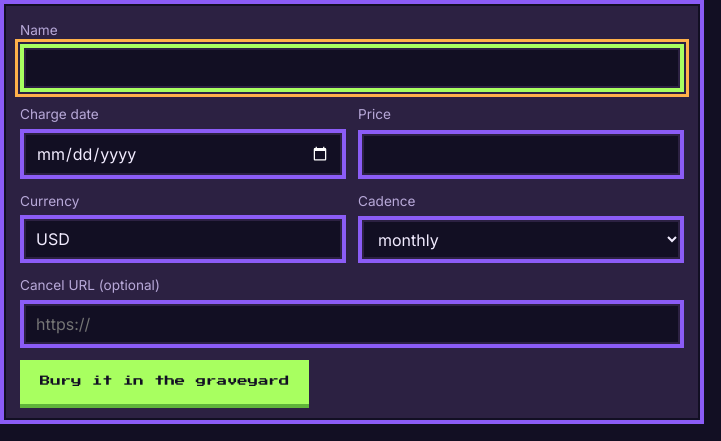
it: GraveForm › saves a valid grave and resets the form
Type "  Phantomflix " into the field labelled "Name" at (352, 68), box x1=20 y1=44 x2=684 y2=92
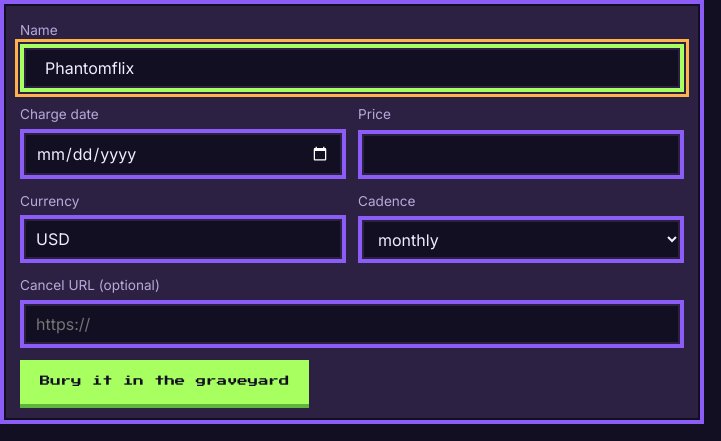
Type "2026-10-31" into the date field labelled "Charge date" at (183, 154), box x1=20 y1=129 x2=346 y2=179
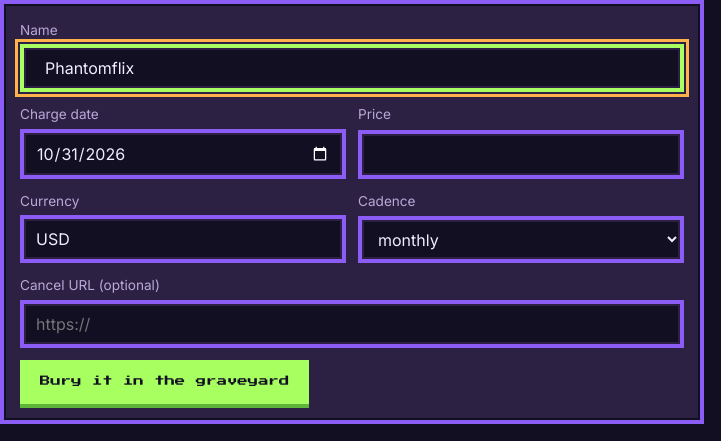
Type "15.49" into the field labelled "Price" at (521, 154), box x1=358 y1=130 x2=684 y2=179
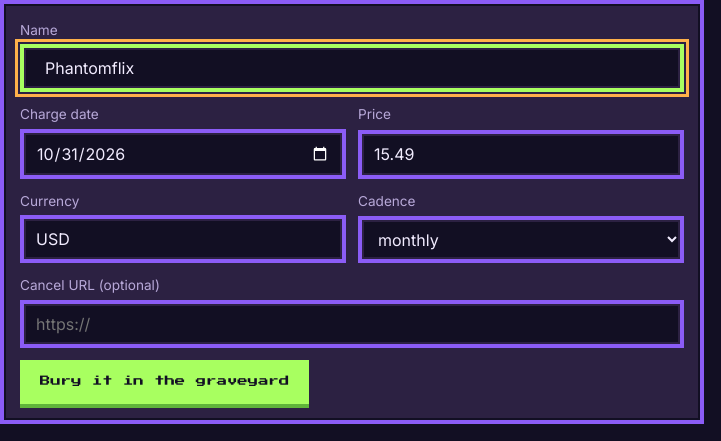
Select "yearly" in the dropdown labelled "Cadence" at (521, 240), box x1=358 y1=216 x2=684 y2=263
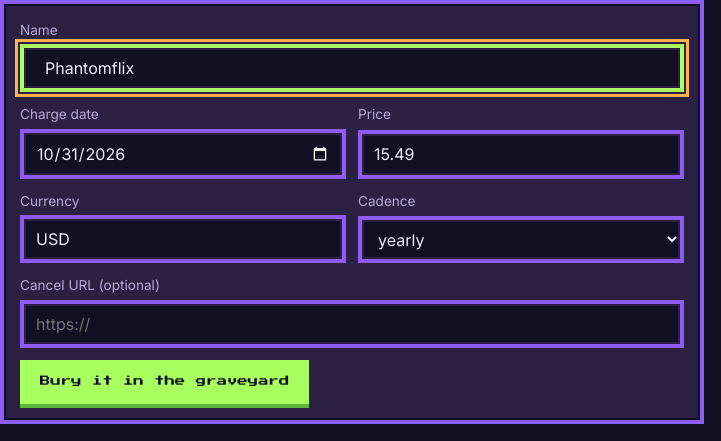
Type "https://phantomflix.example/cancel" into the field labelled "Cancel URL (optional)" at (352, 324), box x1=20 y1=300 x2=684 y2=348
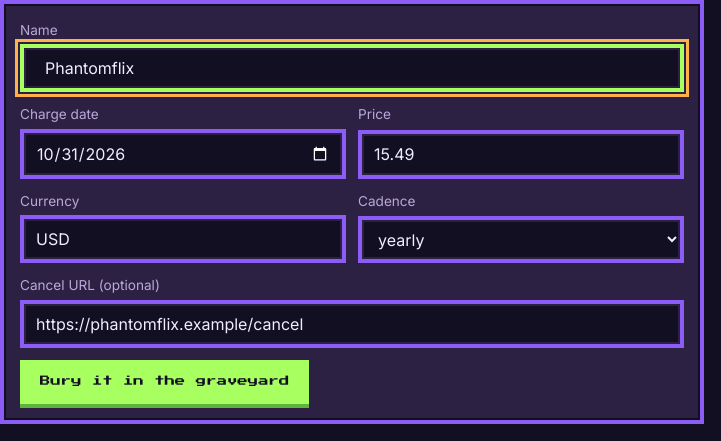
Submit the form named "Grave details"
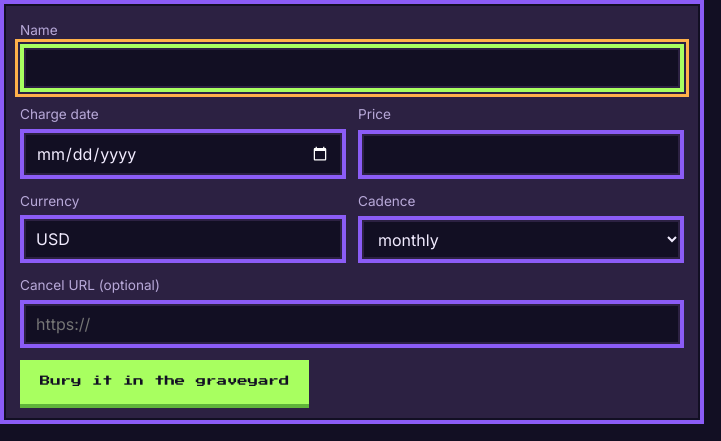
Expected: the field labelled "Name" is empty, x1=20 y1=44 x2=684 y2=92
